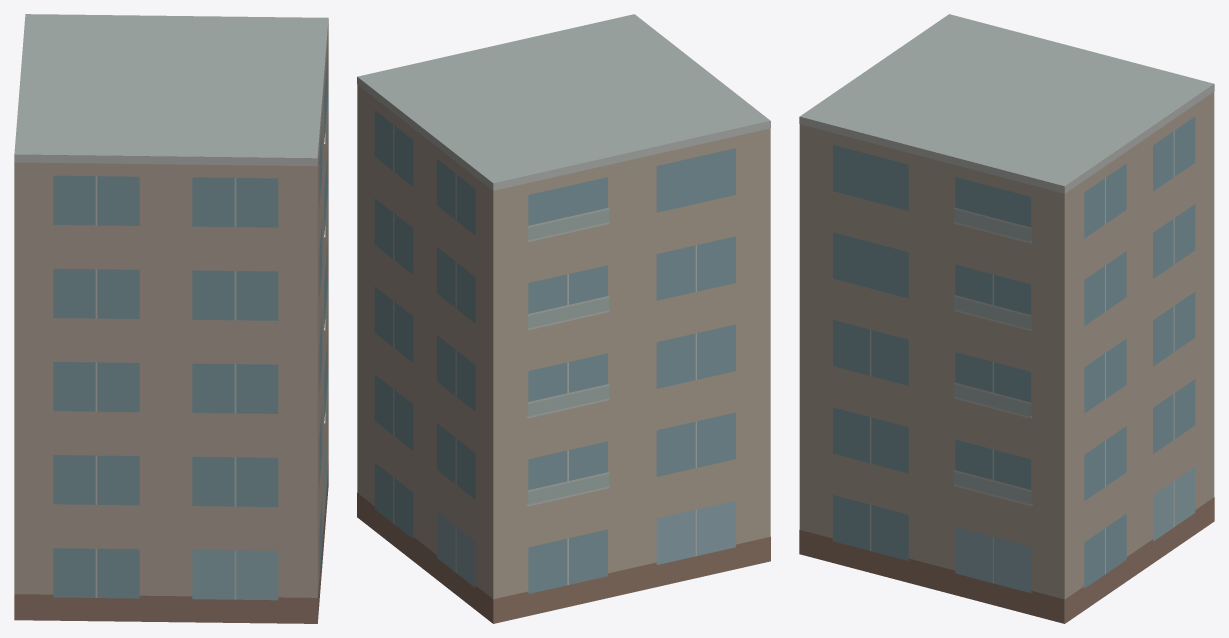
File: survey-upis-32512029.glb
3 renders of one model, left to right at view 1: azimuth 30°, elevation 25°; view 2: azimuth 150°, elevation 25°; view 3: azimuth 270°, elevation 25°, orthographic. The views are drawn at different scales.
Visible parts, largest first — view 1: survey-upis-32512029.tmp; view 2: survey-upis-32512029.tmp; view 3: survey-upis-32512029.tmp.
Part boxes in pixels (<box>): survey-upis-32512029.tmp: <box>14,14,328,623</box>; survey-upis-32512029.tmp: <box>357,14,770,623</box>; survey-upis-32512029.tmp: <box>799,14,1214,623</box>.
Size of the model in its own units: 11.96 by 14.16 by 12.18.
